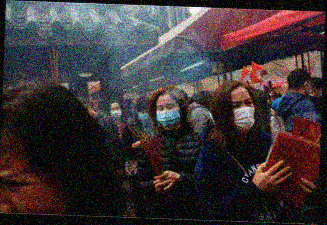with_mask: (230, 95, 257, 134), (154, 100, 181, 129), (108, 103, 123, 120), (138, 109, 151, 123)
